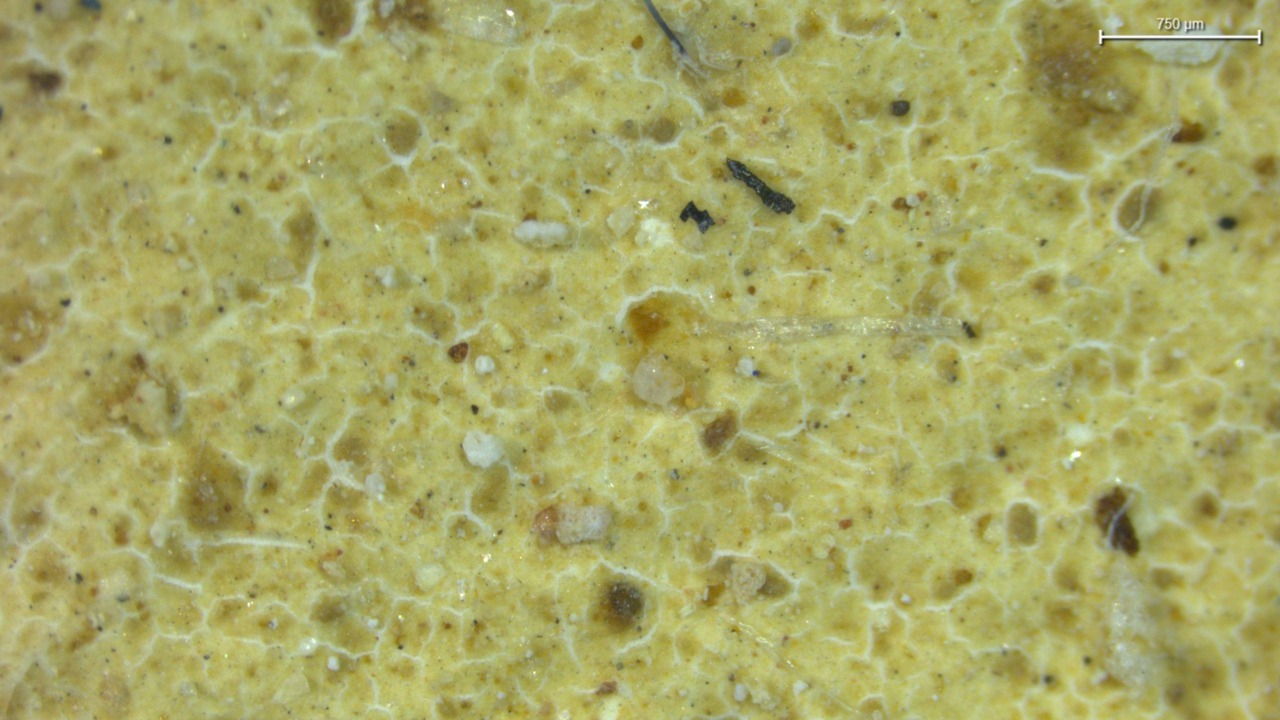microplastic_fragment: (631, 352, 685, 406), (556, 505, 612, 544), (461, 430, 504, 468), (514, 220, 567, 247)
